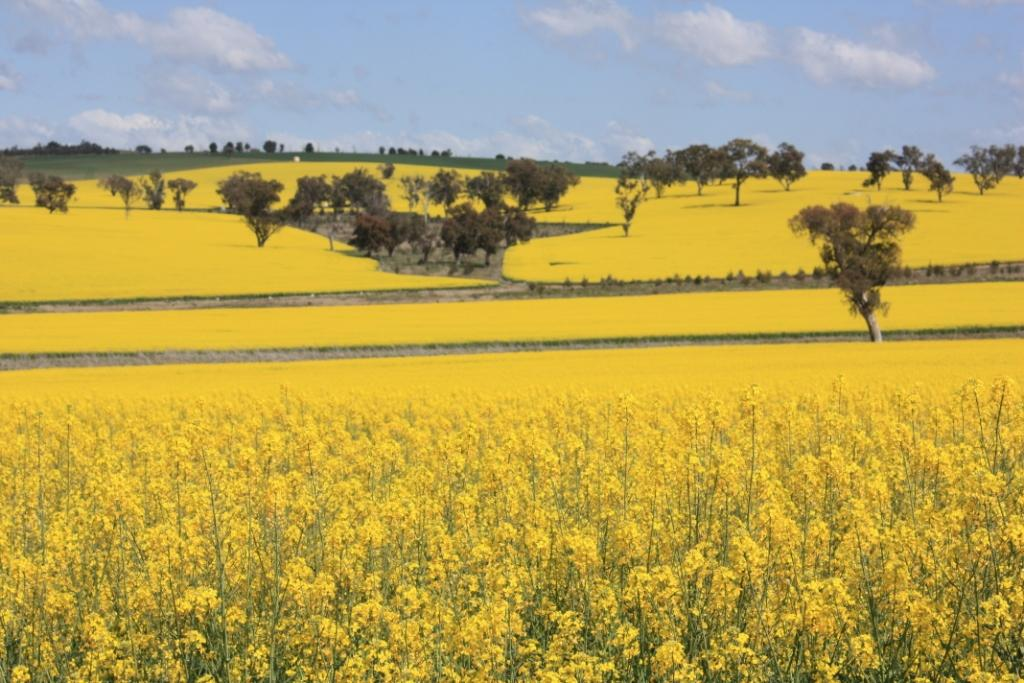mustard: (9, 397, 1023, 683)
